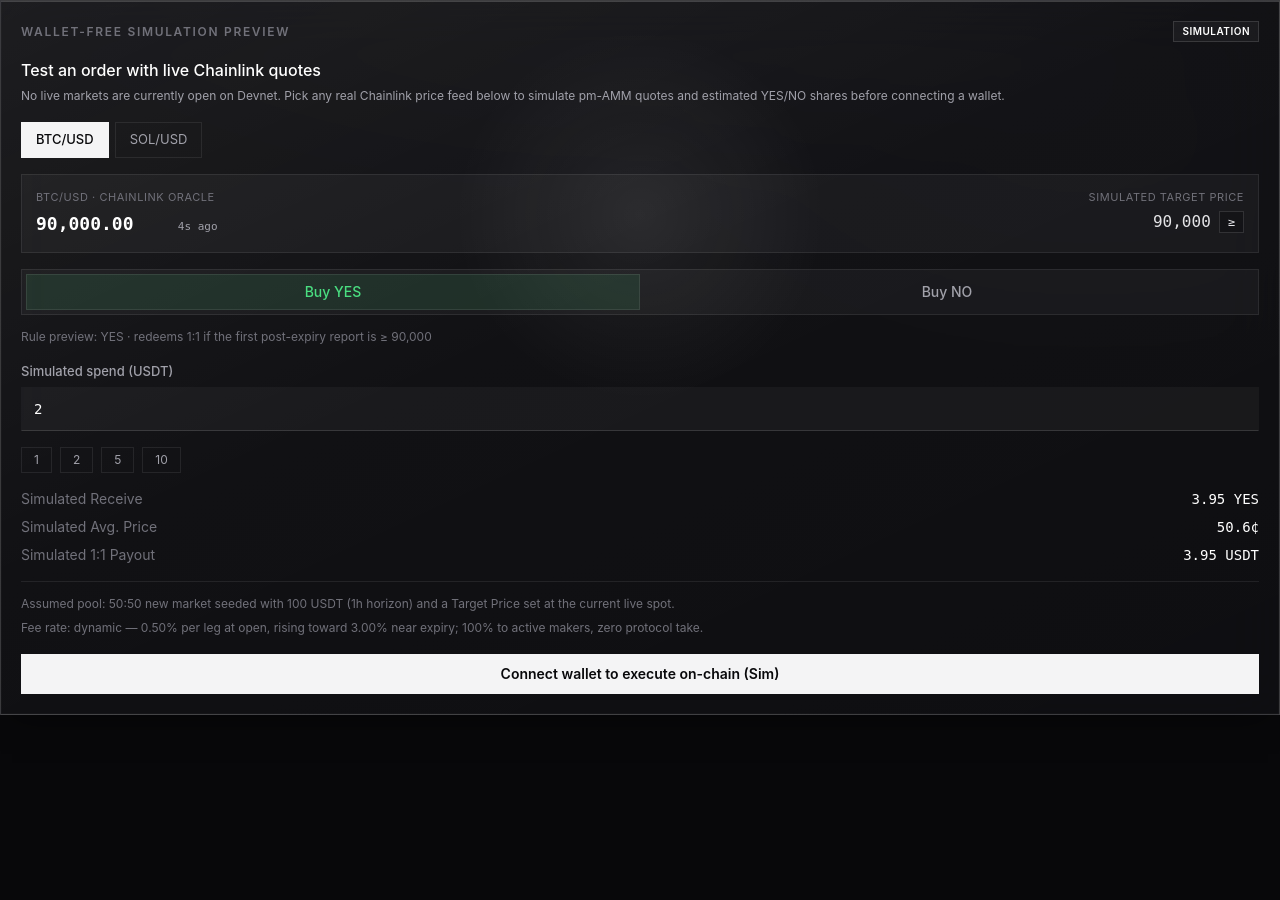
SimOrderPreview › 拿到实时报价后明确标注模拟、实时重算份额并在提交时引导连钱包
The width and height of the screenshot is (1280, 900).
Later steps or results of the test are not shown.
Expected: the text "SIMULATION" is shown, left=1182, top=24, right=1250, bottom=39
Expected: the text "90,000.00" is shown, left=36, top=210, right=134, bottom=238
Click the button "SOL/USD" at [158, 140], box left=115, top=122, right=202, bottom=158
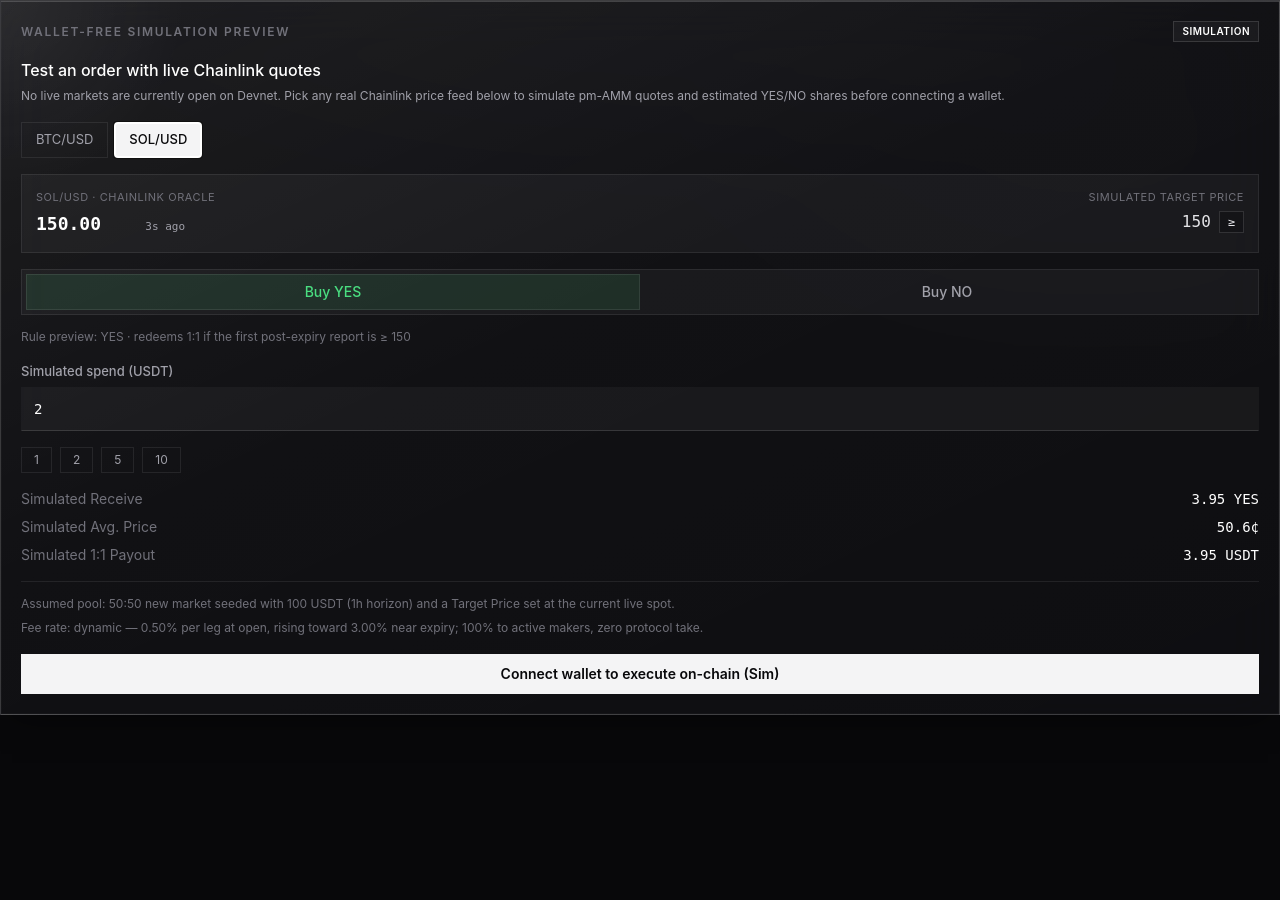
Result: the text "150.00" is shown at left=36, top=210, right=101, bottom=238
